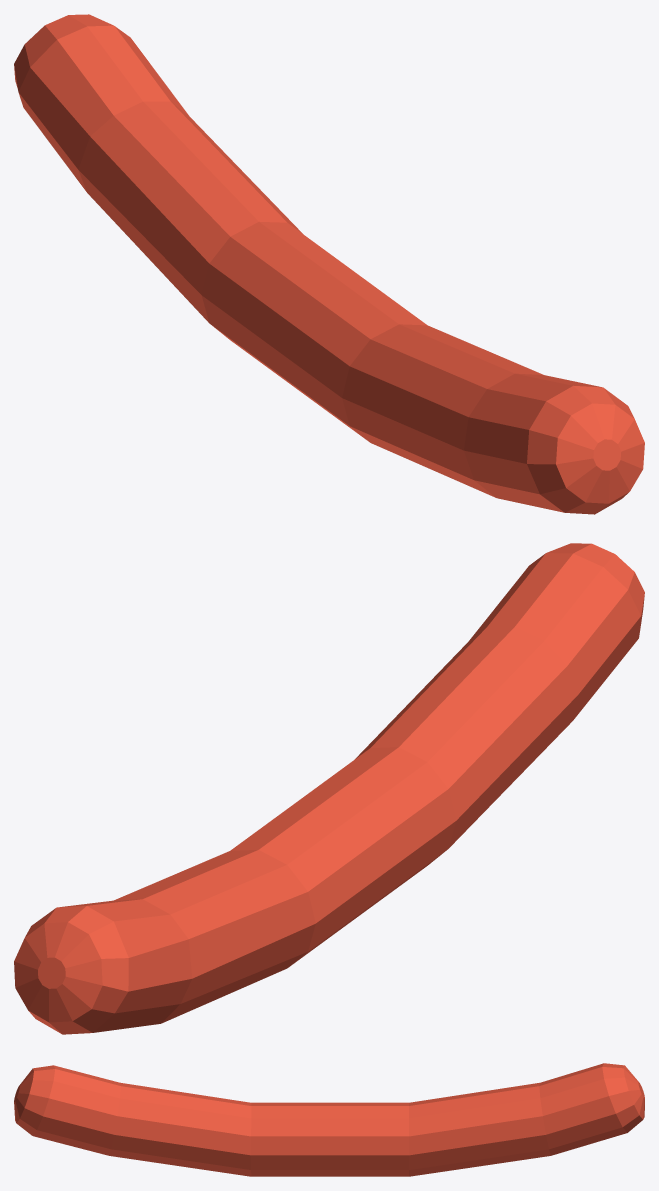
The model's file is sausage.fbx.
3 renders of one model, top to bottom at view 1: azimuth 30°, elevation 25°; view 2: azimuth 150°, elevation 25°; view 3: azimuth 270°, elevation 25°, orthographic. The views are drawn at different scales.
Visible parts, largest first — view 1: Cylinder; view 2: Cylinder; view 3: Cylinder.
Boxes of the visible parts, box(x1,y1,x2,y2) form: Cylinder: box(14, 14, 644, 514); Cylinder: box(14, 543, 644, 1034); Cylinder: box(14, 1063, 644, 1176).
Bounding box in the file's own units: 200 × 316 × 1698.
